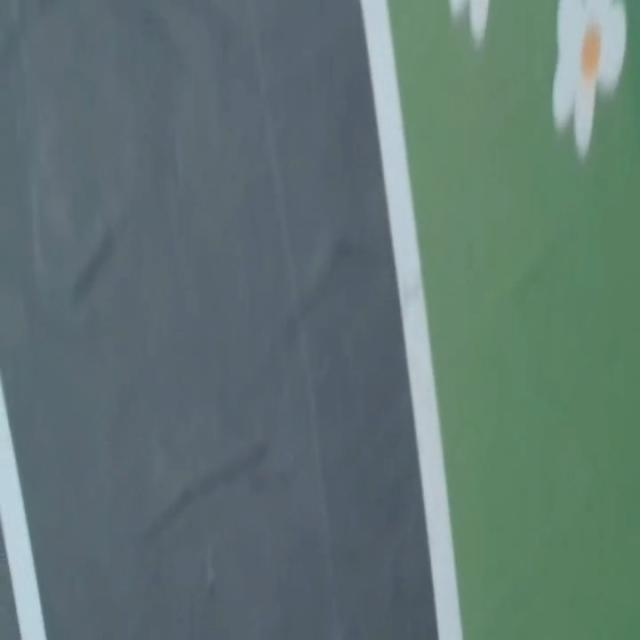right: (360, 0, 461, 639)
